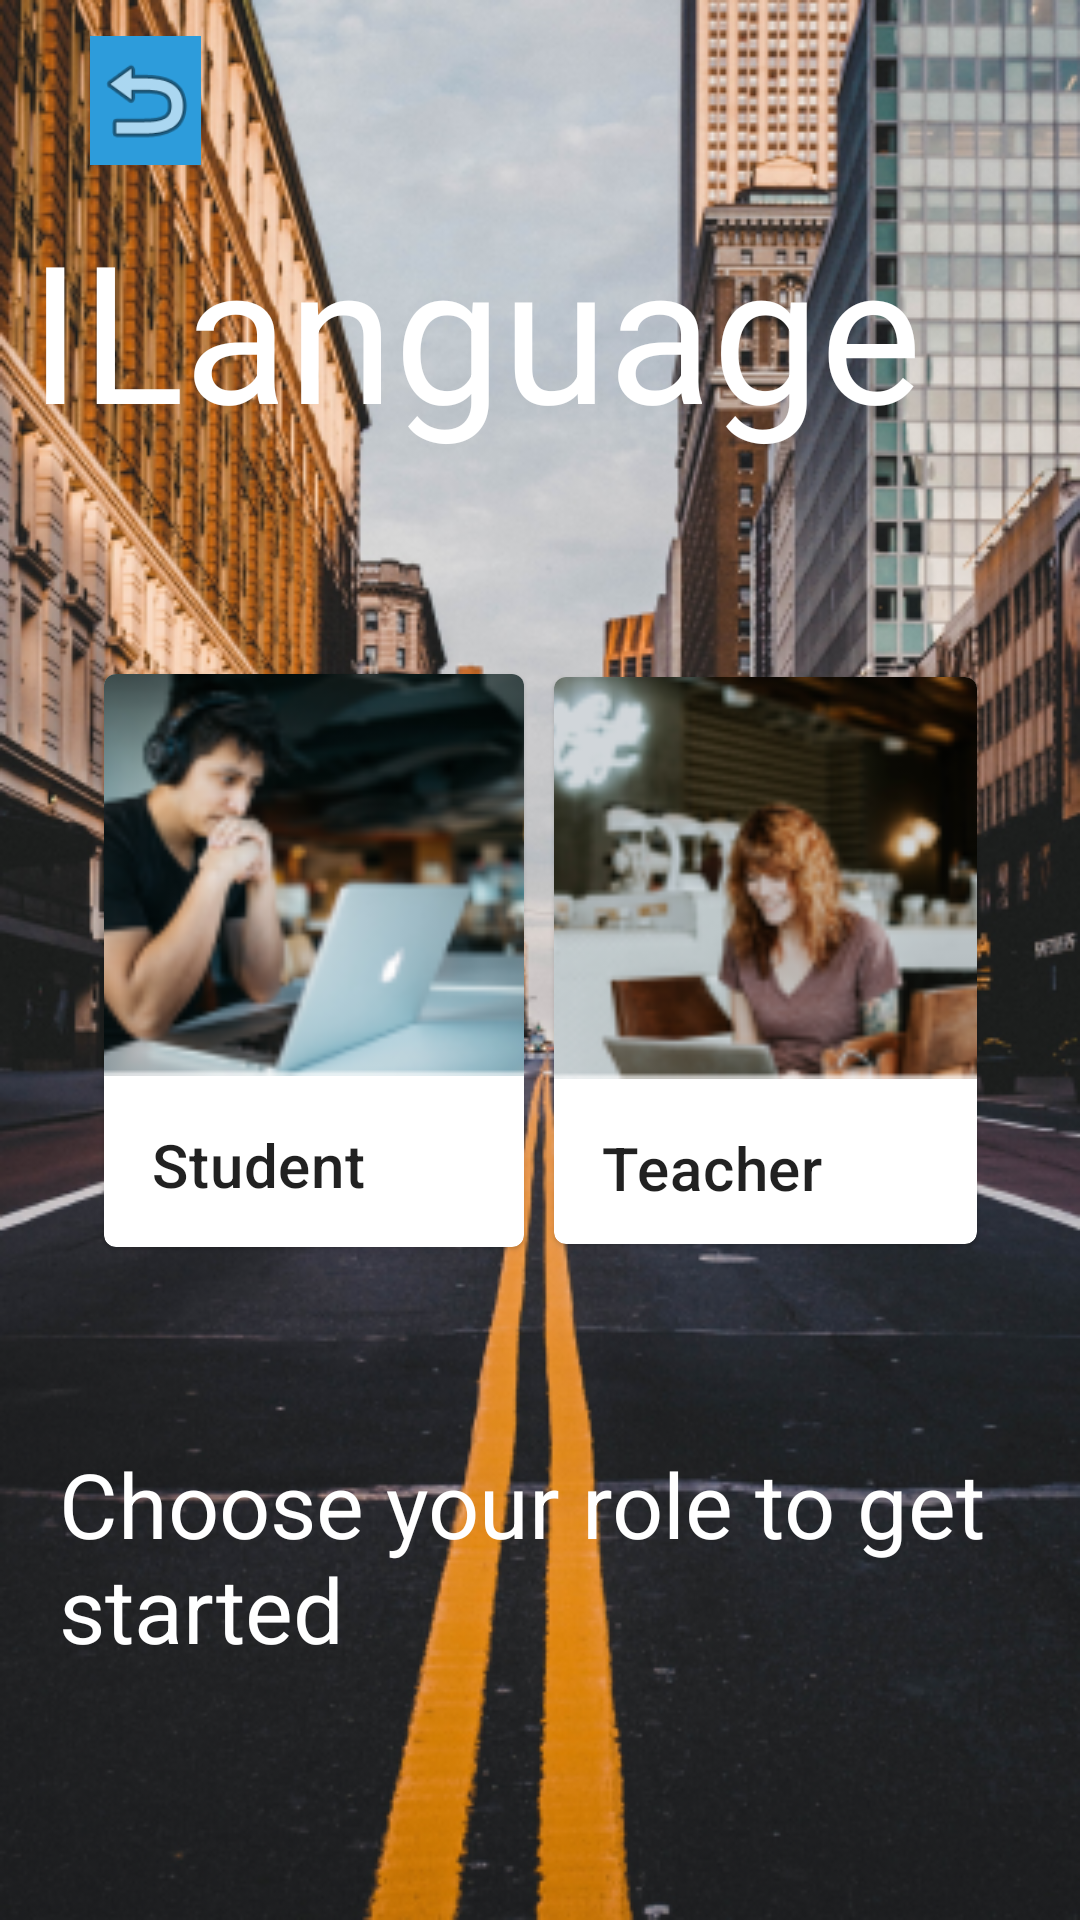

Point at icon controls on the screen. Image size 1080 x 1920, points as (x,y).
Return to: (145,100)
